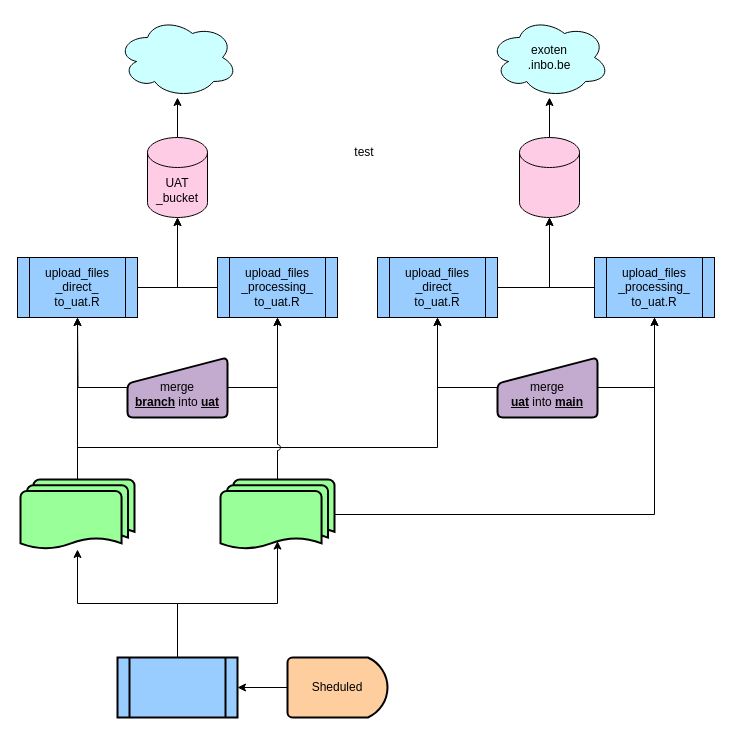
The diagram is 732 pixels wide and 736 high, and some of its shapes have lost their labels. The shapes that lost their labels are listed below. From the top down, each one's centre as x and y in pixels, then its label:
[177,57]: exoten -uat.inbo.be
[549,177]: PROD _bucket
[77,514]: ./data/output/ UAT_direct
[277,514]: ./data/output/ UAT_processing
[177,687]: Data update workflows
